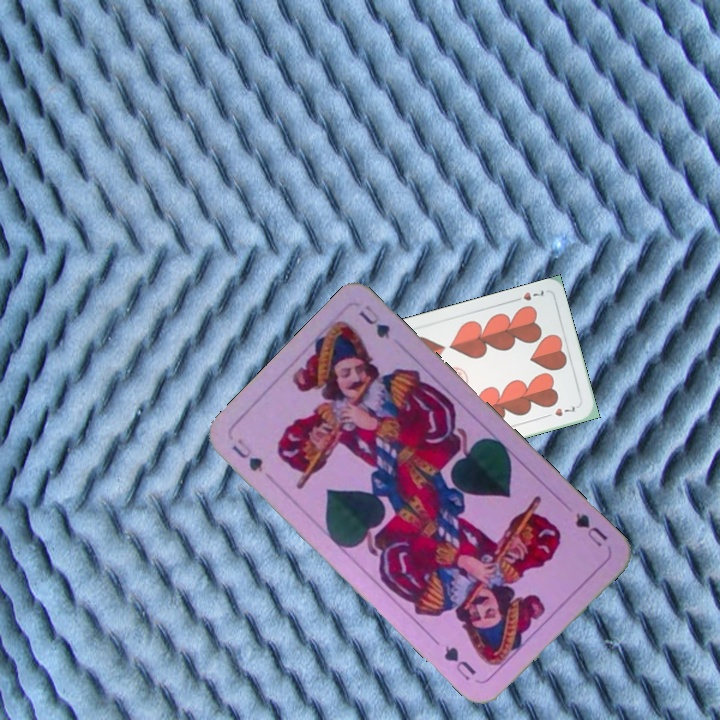GU: (571, 509, 610, 550), (228, 434, 266, 475)
H7: (508, 285, 548, 304)
